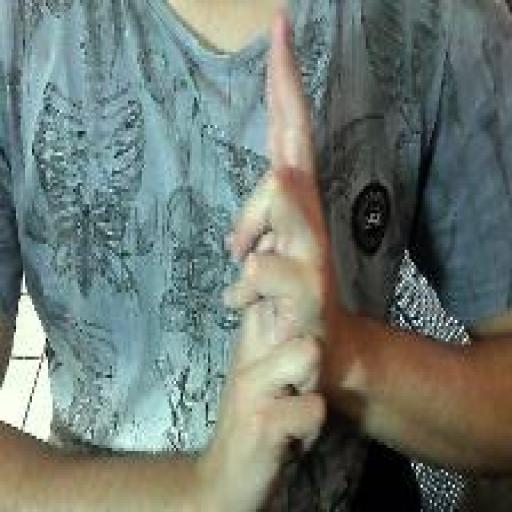Hitsuji -ram-: (220, 8, 345, 510)
